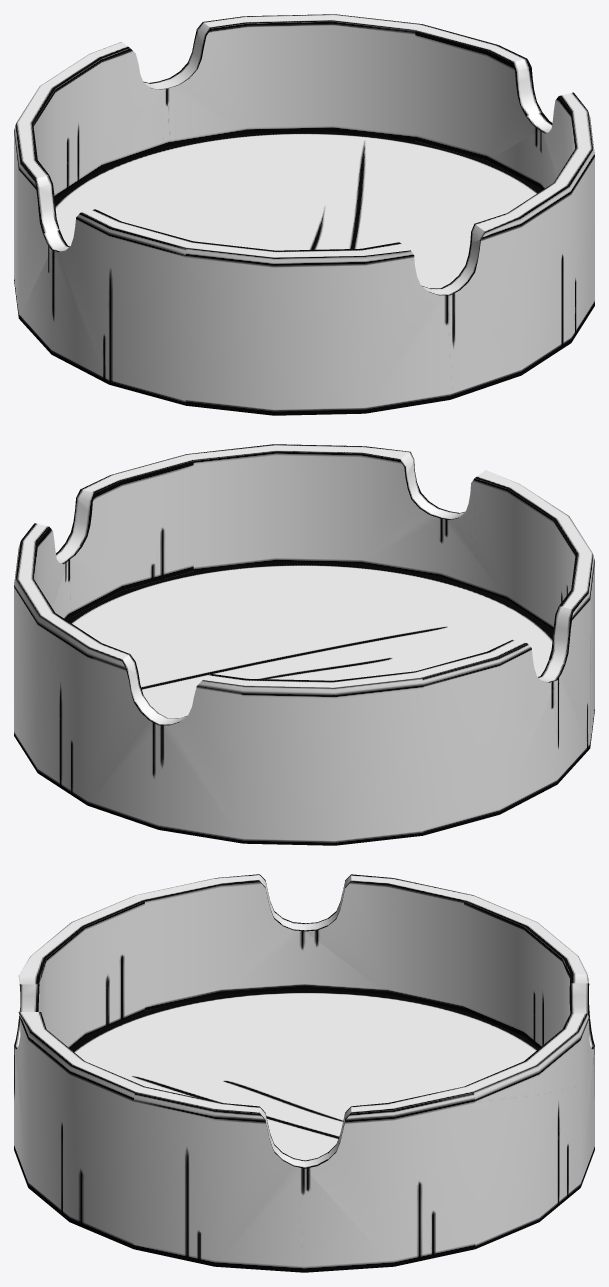
Rendered from ashtray.fbx.
3 renders of one model, top to bottom at view 1: azimuth 30°, elevation 25°; view 2: azimuth 150°, elevation 25°; view 3: azimuth 270°, elevation 25°, orthographic.
Visible parts, largest first — view 1: ashtray1; view 2: ashtray1; view 3: ashtray1.
Part boxes in pixels (box(x1,y1,x2,y2)): ashtray1: box(14, 14, 594, 415); ashtray1: box(14, 444, 594, 845); ashtray1: box(14, 874, 594, 1272).
Bounding box in the file's own units: 0.1421 × 0.0421 × 0.1421.
